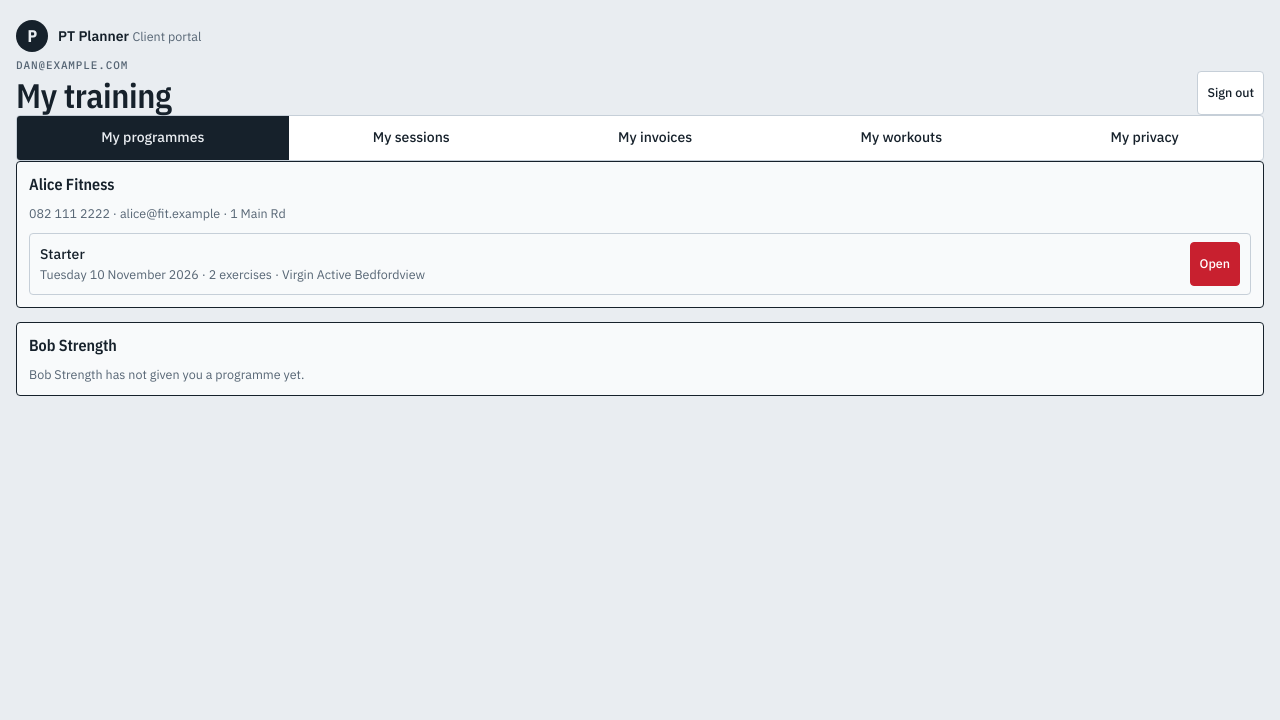
Test: the portal home › opens a programme with the plan and exercises, and goes back
This screenshot has width=1280, height=720.
Click the button with aria-label "Open Starter": (1215, 264) top-left (1190, 242), bottom-right (1240, 286)
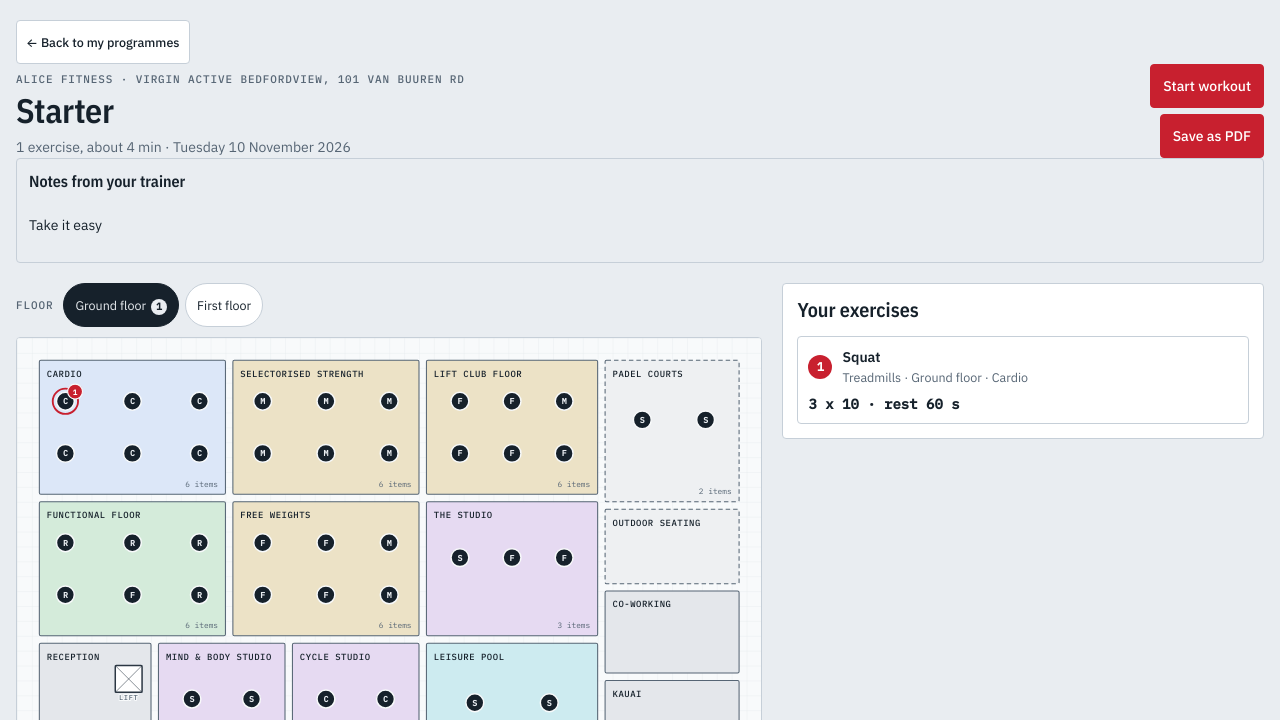
Check: the element with class "zone" is shown, box top-left (39, 360), bottom-right (225, 494)
Check: the heading "Starter" is shown, box top-left (16, 88), bottom-right (114, 132)
Check: the list named "Exercises" shows "Squat", box top-left (842, 348), bottom-right (881, 366)
Click the button "← Back to my programmes": (103, 42) top-left (16, 20), bottom-right (190, 64)
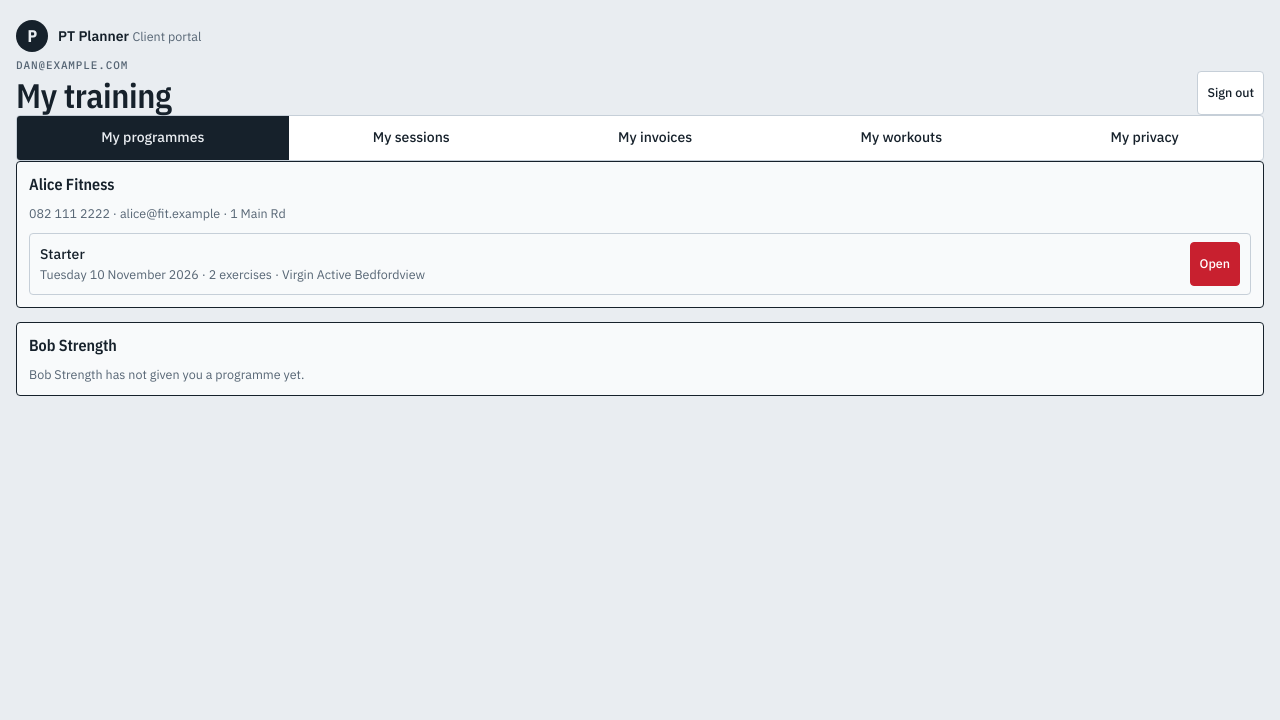
Check: the heading "My training" is shown, box top-left (16, 73), bottom-right (171, 117)
